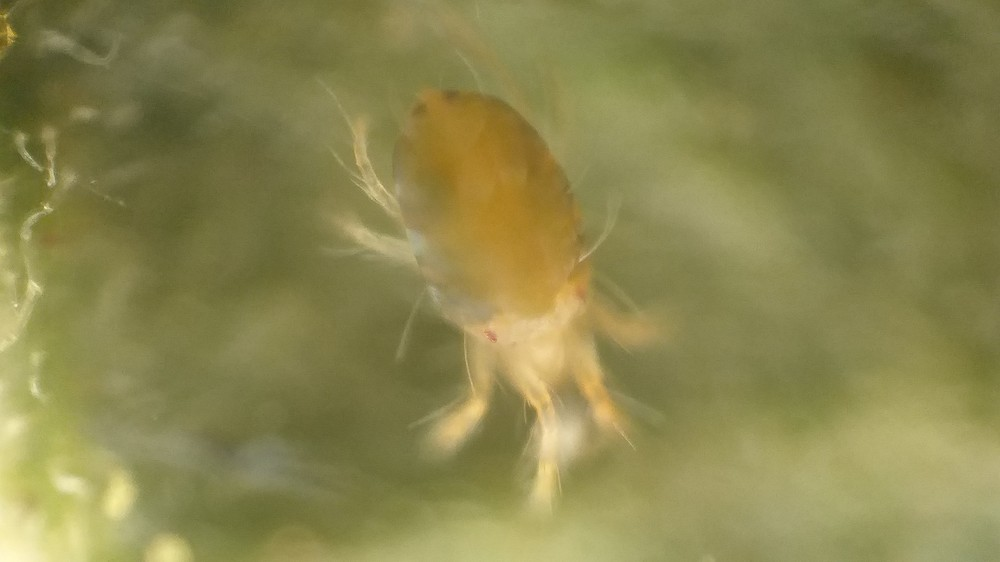Aracnido Rojo: (309, 33, 686, 511)
